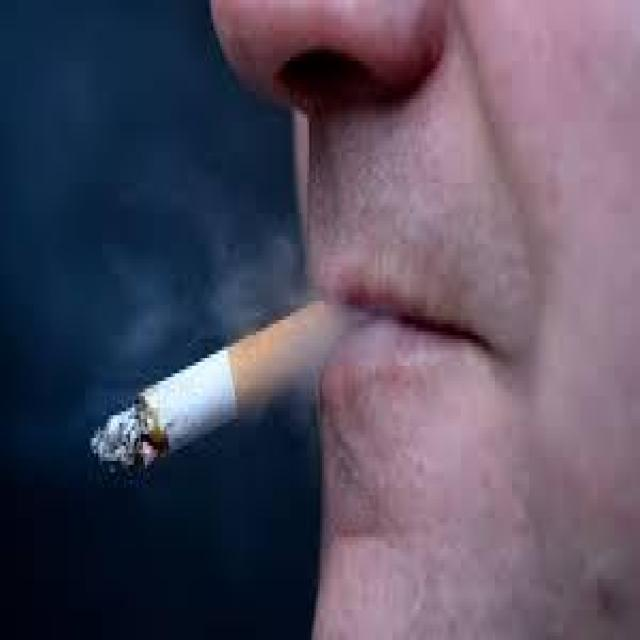cigarette: (92, 301, 348, 469)
